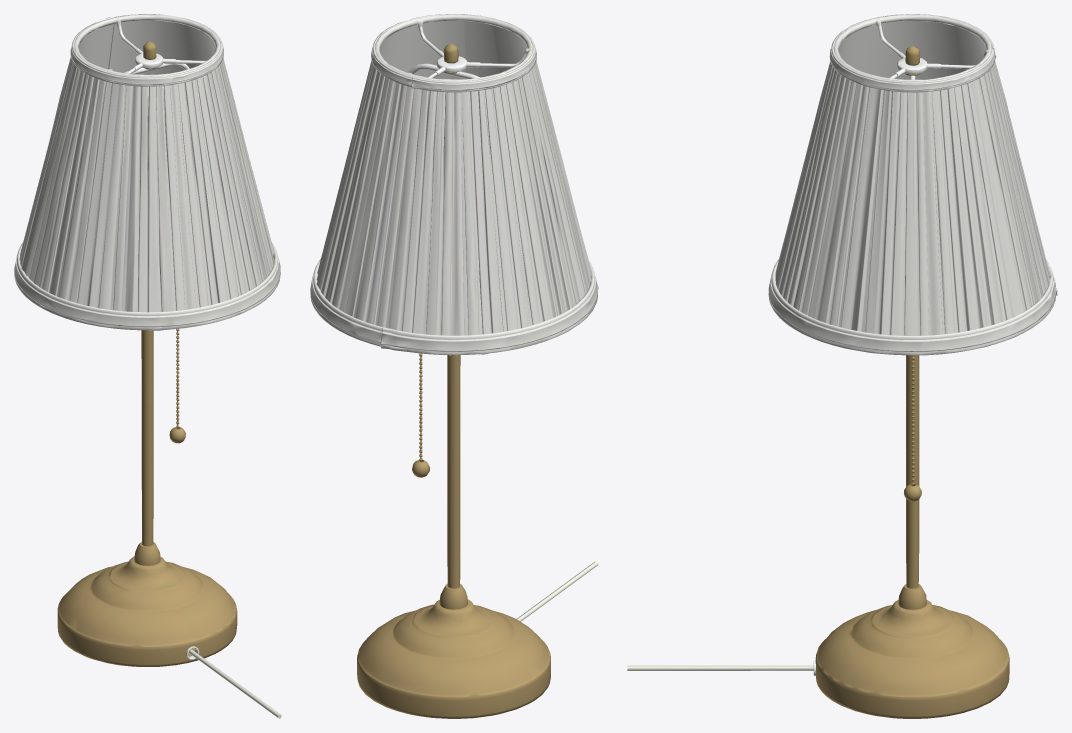
The model's file is ÅRSTID Table Lamp.glb.
3 renders of one model, left to right at view 1: azimuth 30°, elevation 25°; view 2: azimuth 150°, elevation 25°; view 3: azimuth 270°, elevation 25°, orthographic. The views are drawn at different scales.
Visible parts, largest first — view 1: 30321373-Ãƒâ€¦RSTID001; view 2: 30321373-Ãƒâ€¦RSTID001; view 3: 30321373-Ãƒâ€¦RSTID001.
Part boxes in pixels (x1,y1,x2,y2): 30321373-Ãƒâ€¦RSTID001: [14, 14, 281, 718]; 30321373-Ãƒâ€¦RSTID001: [310, 14, 598, 718]; 30321373-Ãƒâ€¦RSTID001: [627, 14, 1057, 718].
Bounding box in the file's own units: 0.2222 × 0.5405 × 0.3322.
1 material, 1 textured.
